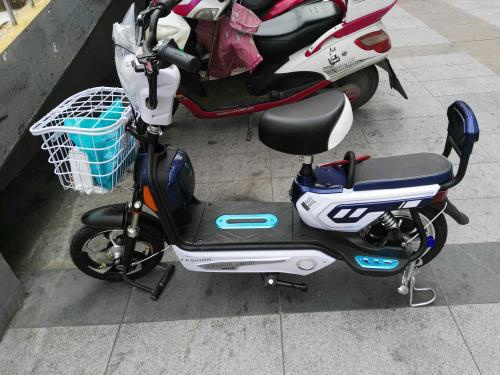non-vehicle: (65, 97, 481, 286), (105, 1, 379, 118)
